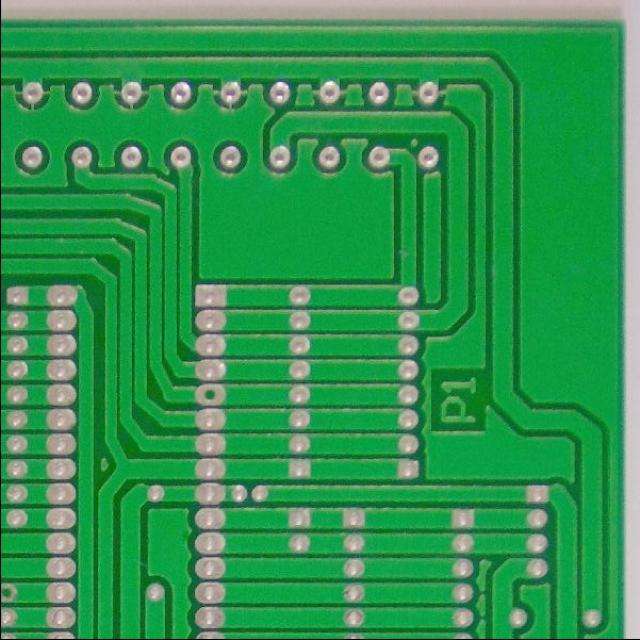Missing_Hole: (193, 379, 228, 408), (0, 578, 20, 604)
